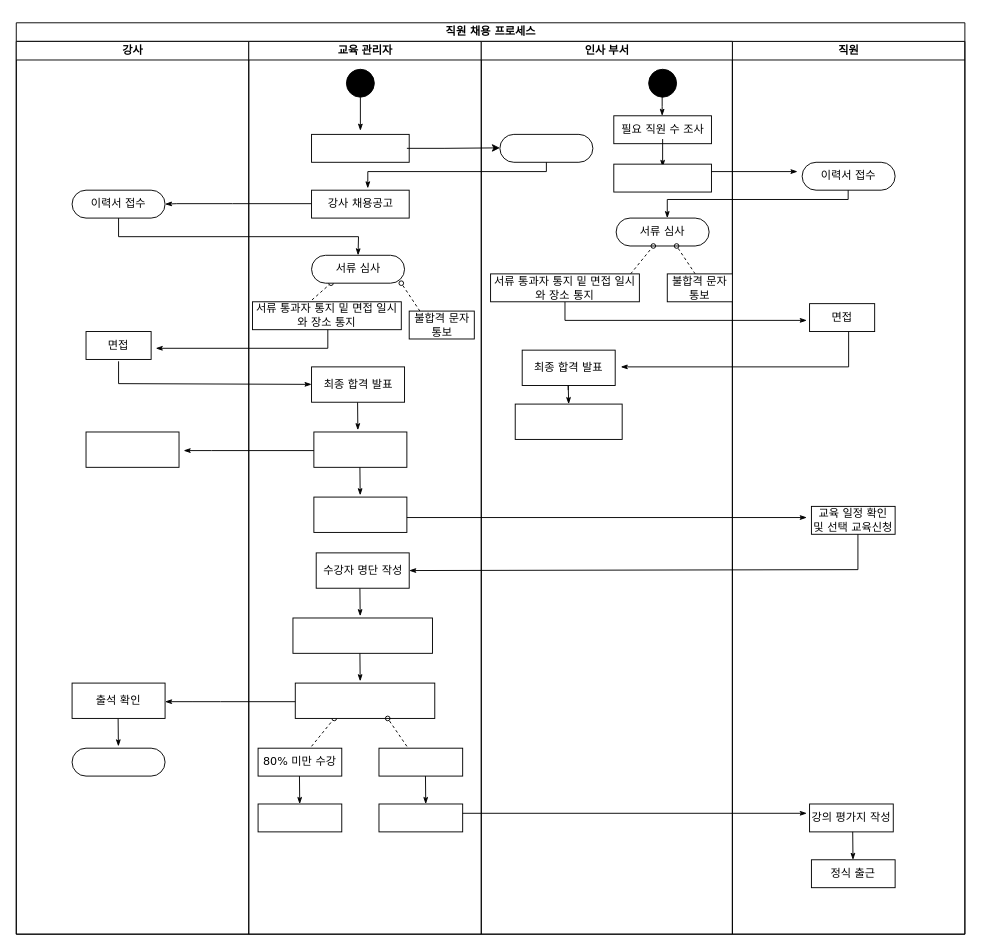
This 989x950 diagram has some shape labels left out. Each missing label, with the centre of its shape:
"80% 이상 수강" goes at (x=420, y=761).
"강의" goes at (x=118, y=761).
"강의실 체크(시설 준비)" goes at (x=362, y=635).
"검토 및 서명" goes at (x=546, y=147).
"계약서 서명" goes at (x=132, y=449).
"계약서 작성(채용)" goes at (x=360, y=449).
"교육 일정 및 시간 공고" goes at (x=360, y=514).
"교육(필수/선택) 커리큘럼 작성" goes at (x=360, y=147).
"수강자 출석표 준비" goes at (x=364, y=700).
"수습직원 명단 작성" goes at (x=568, y=421).
"이수증 발급 및 정식직원 채용" goes at (x=420, y=817).
"재수강" goes at (x=299, y=817).
"직원 채용공고" goes at (x=662, y=177).
